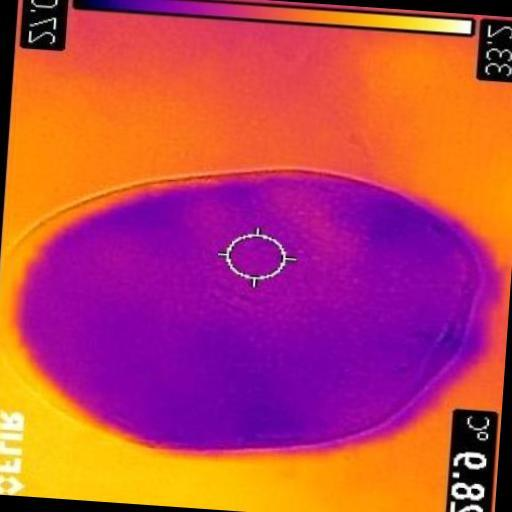alphanso: (3, 169, 483, 448)
